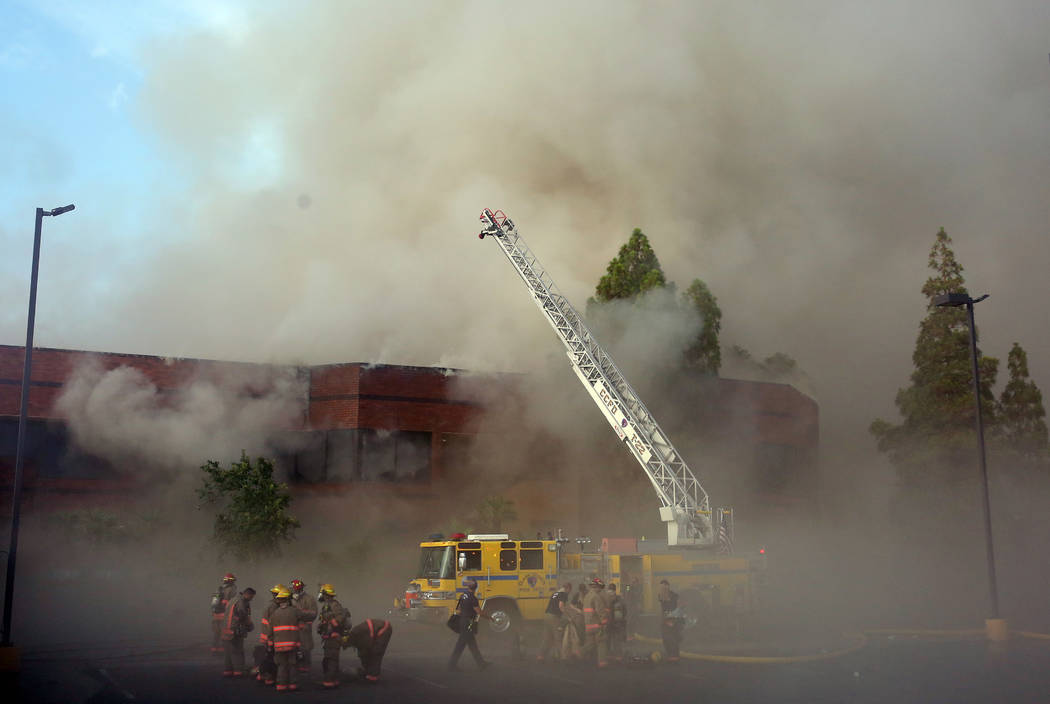smoke: (672, 36, 939, 383), (733, 409, 976, 679), (66, 359, 217, 661), (457, 276, 579, 534)
